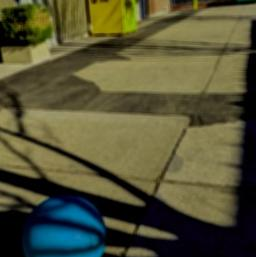algae: (19, 191, 105, 257)
